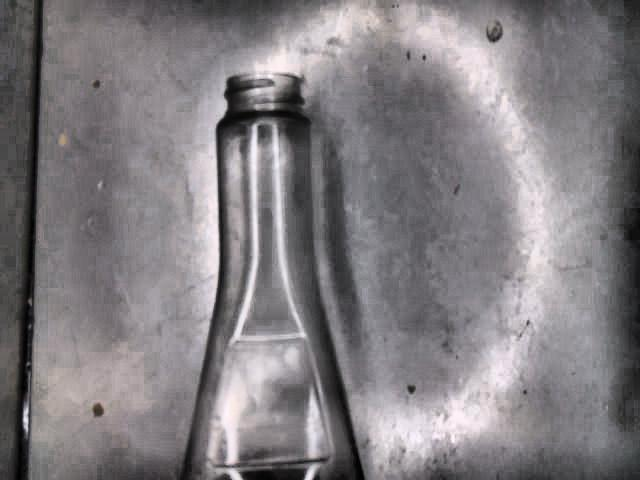Plastic: (179, 71, 366, 480)
